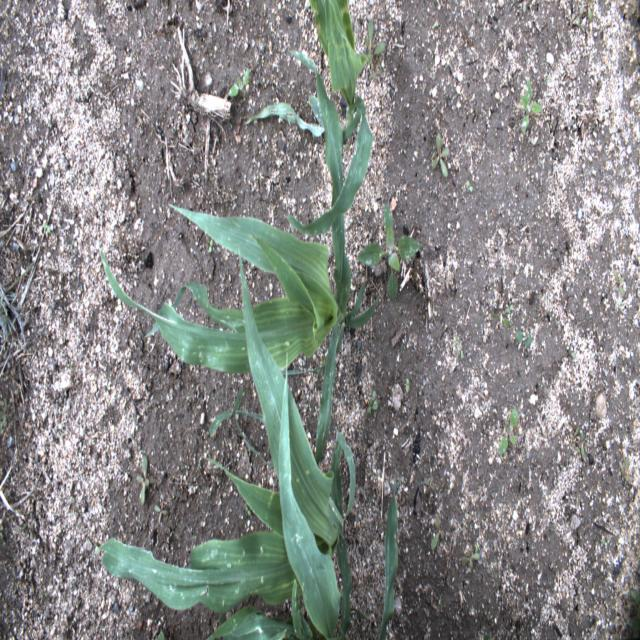crop: (99, 46, 380, 463), (92, 236, 356, 638), (242, 2, 373, 236), (382, 492, 398, 638)
weed: (357, 204, 420, 304), (519, 76, 543, 137), (612, 583, 638, 636), (499, 405, 518, 457), (430, 132, 450, 180), (368, 18, 385, 65), (136, 453, 149, 506), (229, 68, 251, 99), (461, 543, 481, 569), (610, 264, 626, 295), (570, 427, 585, 460), (153, 496, 171, 523), (492, 304, 514, 326), (0, 397, 12, 434), (618, 454, 633, 481), (577, 0, 594, 23), (453, 331, 465, 361), (430, 519, 440, 554), (366, 389, 378, 415), (517, 330, 533, 349), (42, 221, 52, 235), (466, 178, 473, 194), (406, 378, 410, 392)
